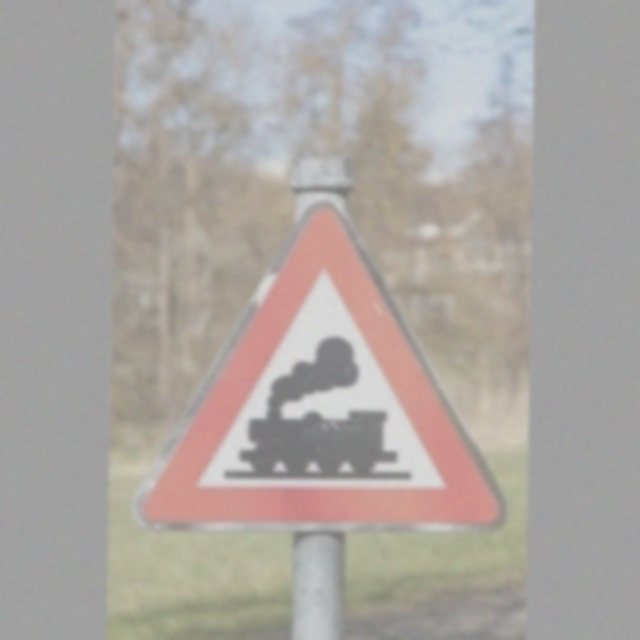Unguarded_Level_Crossing: (129, 198, 509, 533)
